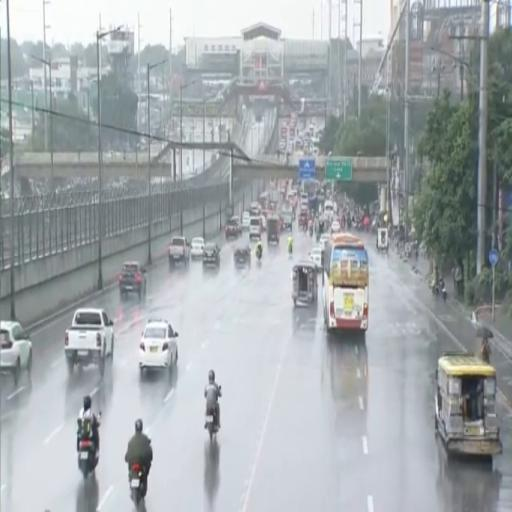bus: (322, 233, 369, 334)
car: (139, 319, 178, 376), (0, 322, 32, 383), (119, 262, 146, 298), (203, 243, 220, 266), (225, 217, 241, 239), (234, 247, 250, 266), (310, 246, 322, 271), (191, 237, 204, 259), (249, 217, 261, 238), (319, 232, 331, 250), (242, 212, 250, 230), (331, 220, 340, 232), (261, 216, 266, 231)
jeepney: (435, 352, 502, 456)
motorcycle: (78, 439, 99, 478), (129, 463, 146, 507), (205, 408, 218, 442), (441, 284, 446, 302), (256, 247, 261, 261), (302, 223, 308, 232), (309, 226, 313, 236), (288, 244, 292, 254)
truck: (65, 309, 113, 376), (169, 236, 190, 267)
